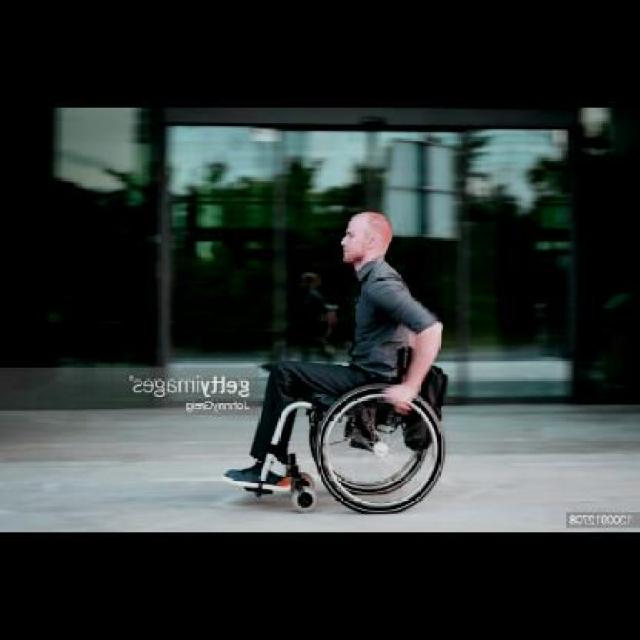wheelchairs: (233, 348, 442, 518)
